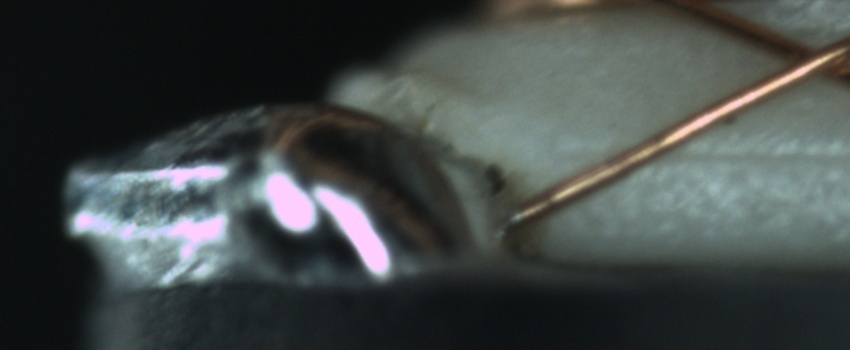CL: (756, 24, 847, 93)
DL: (571, 124, 844, 186)
